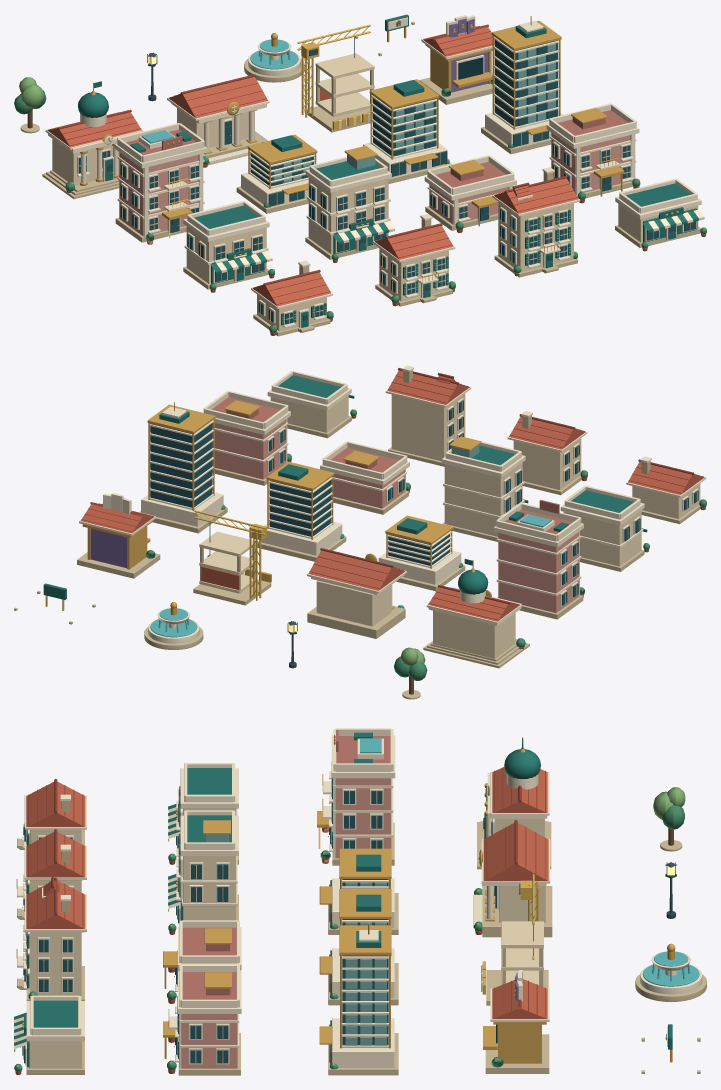
File: city-kit.glb
The picture shows the model from 3 angles, top to bottom: view 1: azimuth 30°, elevation 25°; view 2: azimuth 150°, elevation 25°; view 3: azimuth 270°, elevation 25°; orthographic projection. The views are drawn at different scales.
Parts seen in each view (by area): view 1: hotel_3_geometry, tower_3_geometry, shop_3_geometry, villa_3_geometry, hotel_2_geometry, shop_2_geometry, tower_2_geometry, city_hall_geometry, bank_geometry, villa_2_geometry, construction_geometry, hotel_1_geometry (+6 smaller); view 2: hotel_3_geometry, tower_3_geometry, city_hall_geometry, shop_3_geometry, bank_geometry, tower_2_geometry, hotel_2_geometry, villa_3_geometry, shop_2_geometry, card_station_geometry, hotel_1_geometry, construction_geometry (+6 smaller); view 3: tower_3_geometry, hotel_3_geometry, hotel_2_geometry, shop_3_geometry, villa_3_geometry, bank_geometry, card_station_geometry, shop_1_geometry, city_hall_geometry, construction_geometry, shop_2_geometry, hotel_1_geometry (+6 smaller).
Part boxes in pixels (bbox=[...]): hotel_3_geometry: bbox=[114, 123, 207, 244]; tower_3_geometry: bbox=[481, 16, 562, 154]; shop_3_geometry: bbox=[305, 145, 394, 262]; villa_3_geometry: bbox=[492, 167, 580, 277]; hotel_2_geometry: bbox=[546, 103, 640, 203]; shop_2_geometry: bbox=[183, 201, 274, 292]; tower_2_geometry: bbox=[363, 79, 451, 183]; city_hall_geometry: bbox=[42, 81, 143, 199]; bank_geometry: bbox=[167, 74, 269, 167]; villa_2_geometry: bbox=[373, 214, 455, 306]; construction_geometry: bbox=[297, 24, 374, 132]; hotel_1_geometry: bbox=[424, 155, 516, 232]; hotel_3_geometry: bbox=[494, 500, 584, 619]; tower_3_geometry: bbox=[139, 402, 227, 533]; city_hall_geometry: bbox=[423, 559, 529, 668]; shop_3_geometry: bbox=[441, 436, 528, 541]; bank_geometry: bbox=[307, 548, 406, 638]; tower_2_geometry: bbox=[257, 461, 346, 561]; hotel_2_geometry: bbox=[203, 390, 291, 485]; villa_3_geometry: bbox=[385, 365, 471, 466]; shop_2_geometry: bbox=[560, 485, 649, 571]; card_station_geometry: bbox=[77, 493, 160, 578]; hotel_1_geometry: bbox=[320, 441, 410, 514]; construction_geometry: bbox=[193, 510, 271, 605]; tower_3_geometry: bbox=[319, 923, 398, 1075]; hotel_3_geometry: bbox=[317, 728, 395, 865]; hotel_2_geometry: bbox=[163, 964, 241, 1075]; shop_3_geometry: bbox=[168, 810, 238, 934]; villa_3_geometry: bbox=[16, 877, 86, 1000]; bank_geometry: bbox=[473, 820, 552, 937]; card_station_geometry: bbox=[483, 970, 549, 1073]; shop_1_geometry: bbox=[14, 995, 84, 1074]; city_hall_geometry: bbox=[477, 737, 551, 869]; construction_geometry: bbox=[481, 874, 548, 1005]; shop_2_geometry: bbox=[168, 763, 238, 864]; hotel_1_geometry: bbox=[163, 920, 241, 1003].
Size of the model in its own units: 4.5 by 1.14 by 5.23.
